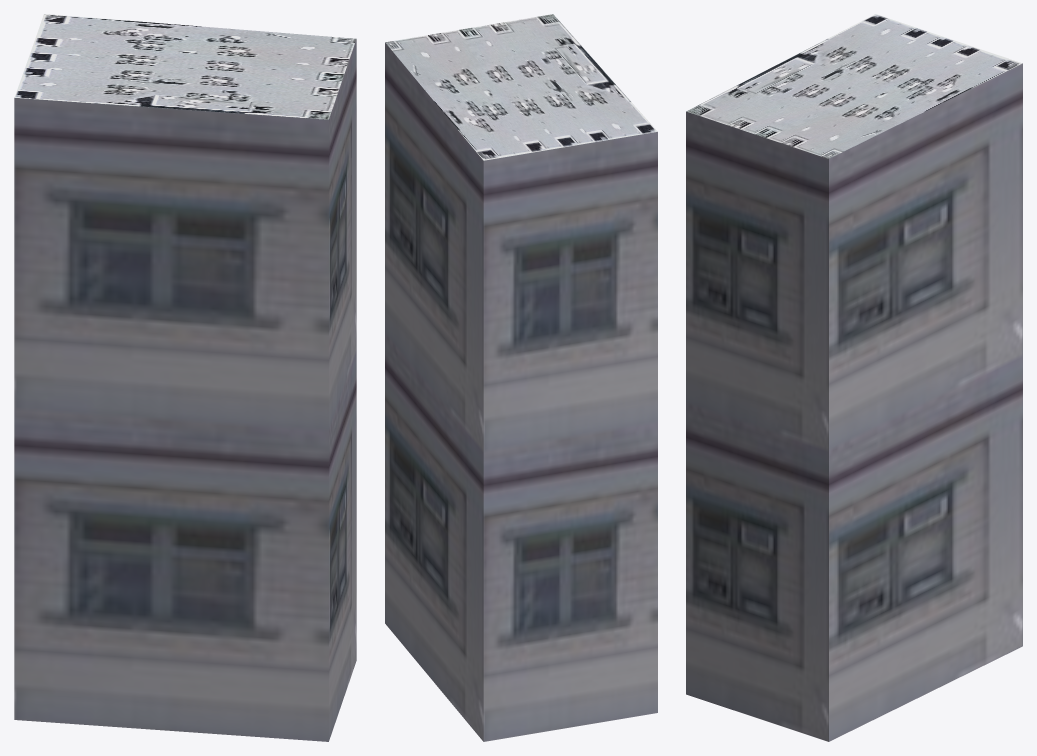
The model's file is ResTex__2187.fbx.
3 views of the same model, side by side, from view 1: azimuth 30°, elevation 25°; view 2: azimuth 150°, elevation 25°; view 3: azimuth 270°, elevation 25° (orthographic). The views are drawn at different scales.
Parts seen in each view (by area): view 1: CityEngineMaterial_1_m, CityEngineMaterial_4_m; view 2: CityEngineMaterial_1_m, CityEngineMaterial_4_m; view 3: CityEngineMaterial_1_m, CityEngineMaterial_4_m.
Part boxes in pixels (x1,y1,x2,y2): CityEngineMaterial_1_m: [14, 39, 356, 741]; CityEngineMaterial_4_m: [14, 14, 356, 119]; CityEngineMaterial_1_m: [385, 42, 657, 741]; CityEngineMaterial_4_m: [385, 14, 657, 160]; CityEngineMaterial_1_m: [686, 63, 1022, 741]; CityEngineMaterial_4_m: [686, 14, 1022, 158].
Size of the model in its own units: 3.2 by 6 by 3.14.
2 materials, 2 textured.
